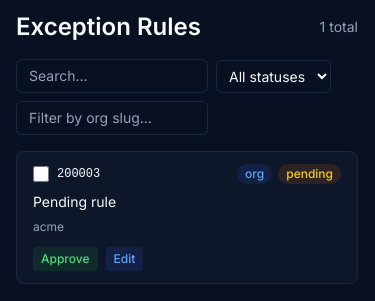
Test: ExceptionList › shows inline error when Approve fails
Click the button "Approve" at (65, 259), box [33, 247, 98, 271]
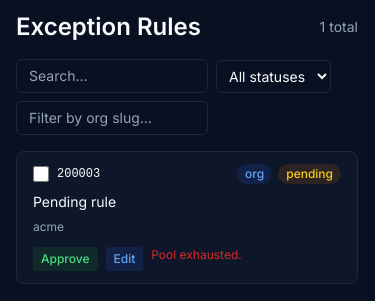
Result: the text "Pool exhausted." is shown at [151, 247, 242, 271]
